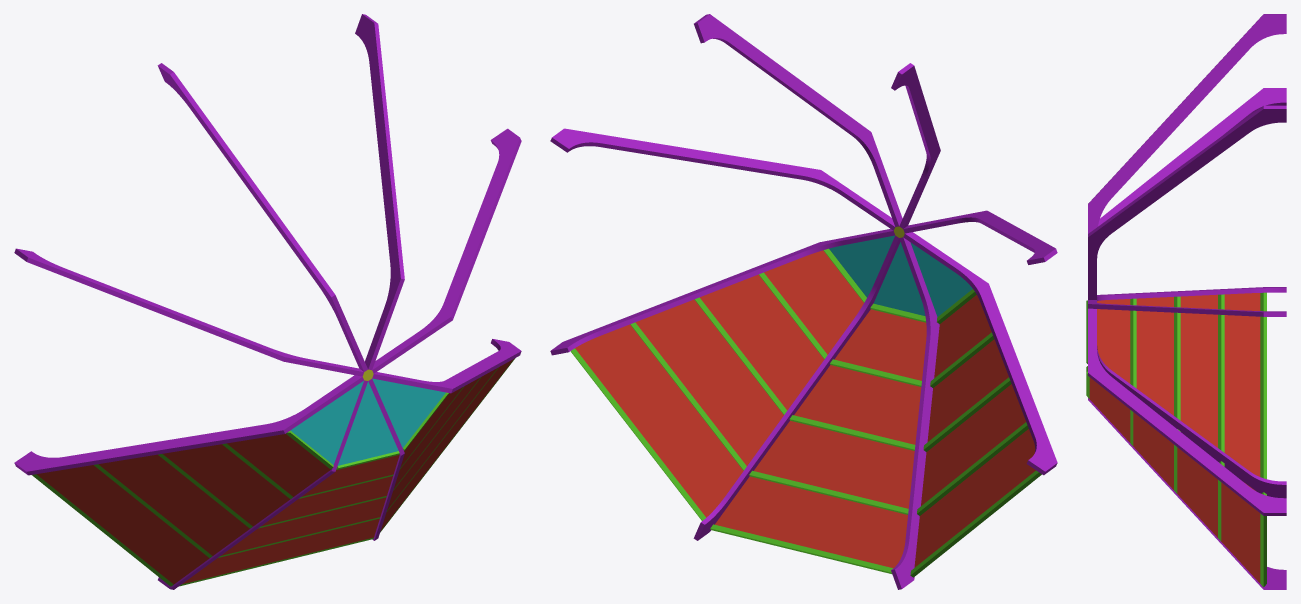
Rendered from Octagon Full.obj.
The picture shows the model from 3 angles, left to right: view 1: azimuth 30°, elevation 25°; view 2: azimuth 150°, elevation 25°; view 3: azimuth 270°, elevation 25°; orthographic projection. The views are drawn at different scales.
Visible parts, largest first — view 1: Body62, Body58, Body51, Body49, Body53, Body47, Body10, Body12, Body60, Body61, Body59, Body11 (+6 smaller); view 2: Body58, Body62, Body3, Body1, Body10, Body12, Body2, Body11, Body51, Body4, Body49, Body9 (+14 smaller); view 3: Body62, Body58, Body51, Body49, Body53, Body3, Body47, Body1, Body2, Body41, Body4, Body45 (+3 smaller).
Boxes of the visible parts, left/top/right/bottom form: Body62: left=14, top=14, right=521, bottom=376; Body58: left=14, top=339, right=521, bottom=589; Body51: left=36, top=465, right=209, bottom=584; Body49: left=98, top=454, right=249, bottom=555; Body53: left=162, top=444, right=290, bottom=526; Body47: left=227, top=433, right=330, bottom=496; Body10: left=182, top=518, right=379, bottom=584; Body12: left=221, top=497, right=386, bottom=555; Body60: left=337, top=381, right=398, bottom=465; Body61: left=290, top=381, right=363, bottom=464; Body59: left=372, top=378, right=445, bottom=447; Body11: left=261, top=476, right=392, bottom=526; Body58: left=550, top=229, right=1057, bottom=589; Body62: left=550, top=14, right=1057, bottom=264; Body3: left=575, top=324, right=743, bottom=517; Body1: left=635, top=299, right=783, bottom=465; Body10: left=715, top=476, right=907, bottom=568; Body12: left=754, top=420, right=914, bottom=508; Body2: left=700, top=274, right=824, bottom=410; Body11: left=794, top=365, right=921, bottom=444; Body51: left=914, top=429, right=1035, bottom=567; Body4: left=764, top=250, right=863, bottom=354; Body49: left=921, top=384, right=1025, bottom=505; Body9: left=834, top=309, right=926, bottom=380; Body62: left=1088, top=14, right=1286, bottom=316; Body58: left=1088, top=287, right=1286, bottom=589; Body51: left=1224, top=293, right=1260, bottom=476; Body49: left=1180, top=294, right=1217, bottom=447; Body53: left=1136, top=297, right=1173, bottom=415; Body3: left=1221, top=482, right=1260, bottom=583; Body47: left=1097, top=299, right=1130, bottom=383; Body1: left=1177, top=447, right=1217, bottom=537; Body2: left=1133, top=412, right=1173, bottom=489; Body41: left=1260, top=292, right=1266, bottom=479; Body4: left=1089, top=377, right=1130, bottom=442; Body45: left=1218, top=294, right=1224, bottom=452.
Size of the model in its own units: 35.32 by 35.32 by 13.25.
